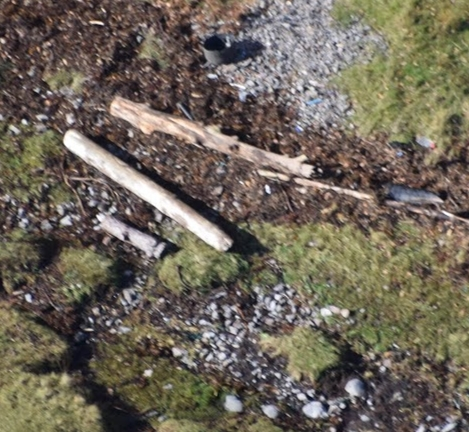straight_bar: (59, 123, 241, 252), (105, 88, 320, 182), (94, 208, 172, 263), (377, 171, 446, 207)
tube: (256, 165, 466, 224)
white_in_green: (175, 13, 259, 83)
